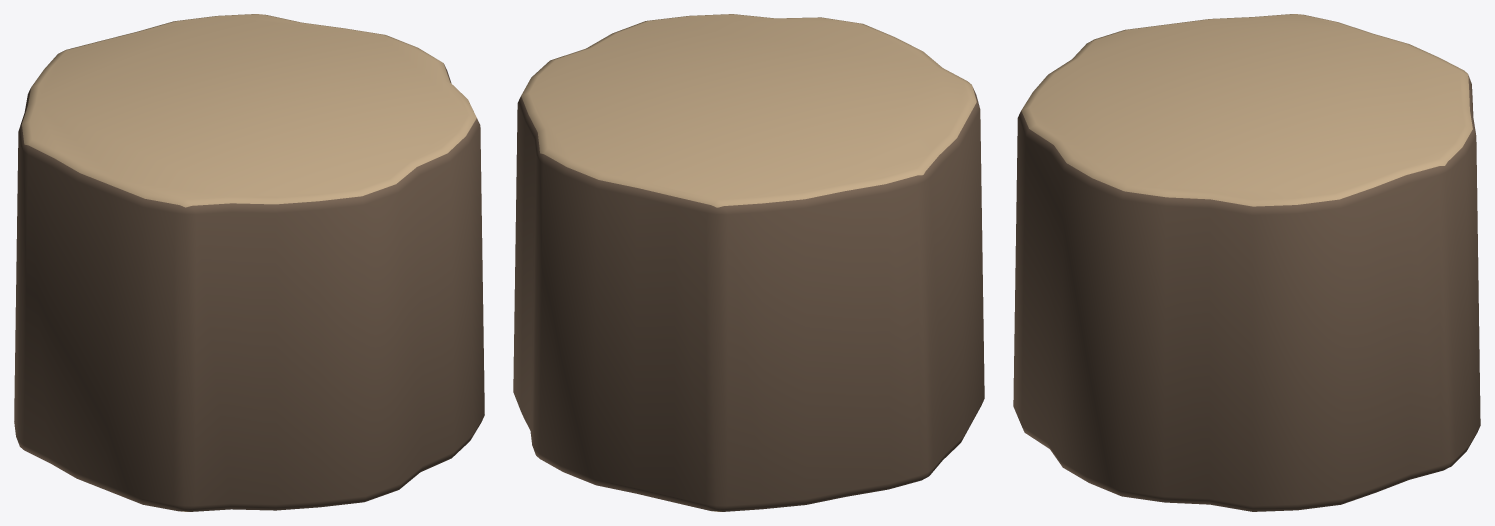
Rendered from log_block.glb.
3 views of the same model, side by side, from view 1: azimuth 30°, elevation 25°; view 2: azimuth 150°, elevation 25°; view 3: azimuth 270°, elevation 25° (orthographic).
Visible parts, largest first — view 1: Log_Stump; view 2: Log_Stump; view 3: Log_Stump.
Boxes of the visible parts, box(x1,y1,x2,y2) form: Log_Stump: box(14, 14, 484, 511); Log_Stump: box(513, 14, 984, 511); Log_Stump: box(1013, 14, 1480, 511).
Bounding box in the file's own units: 0.3308 × 0.24 × 0.3283.
